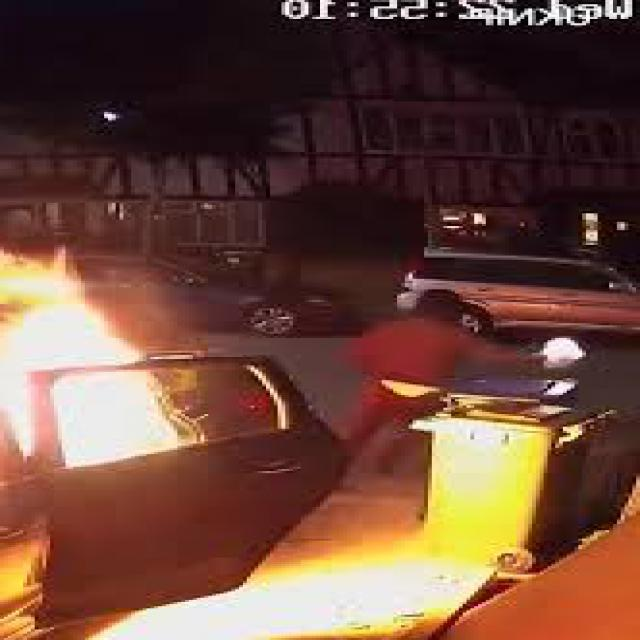fire: (4, 226, 204, 488)
